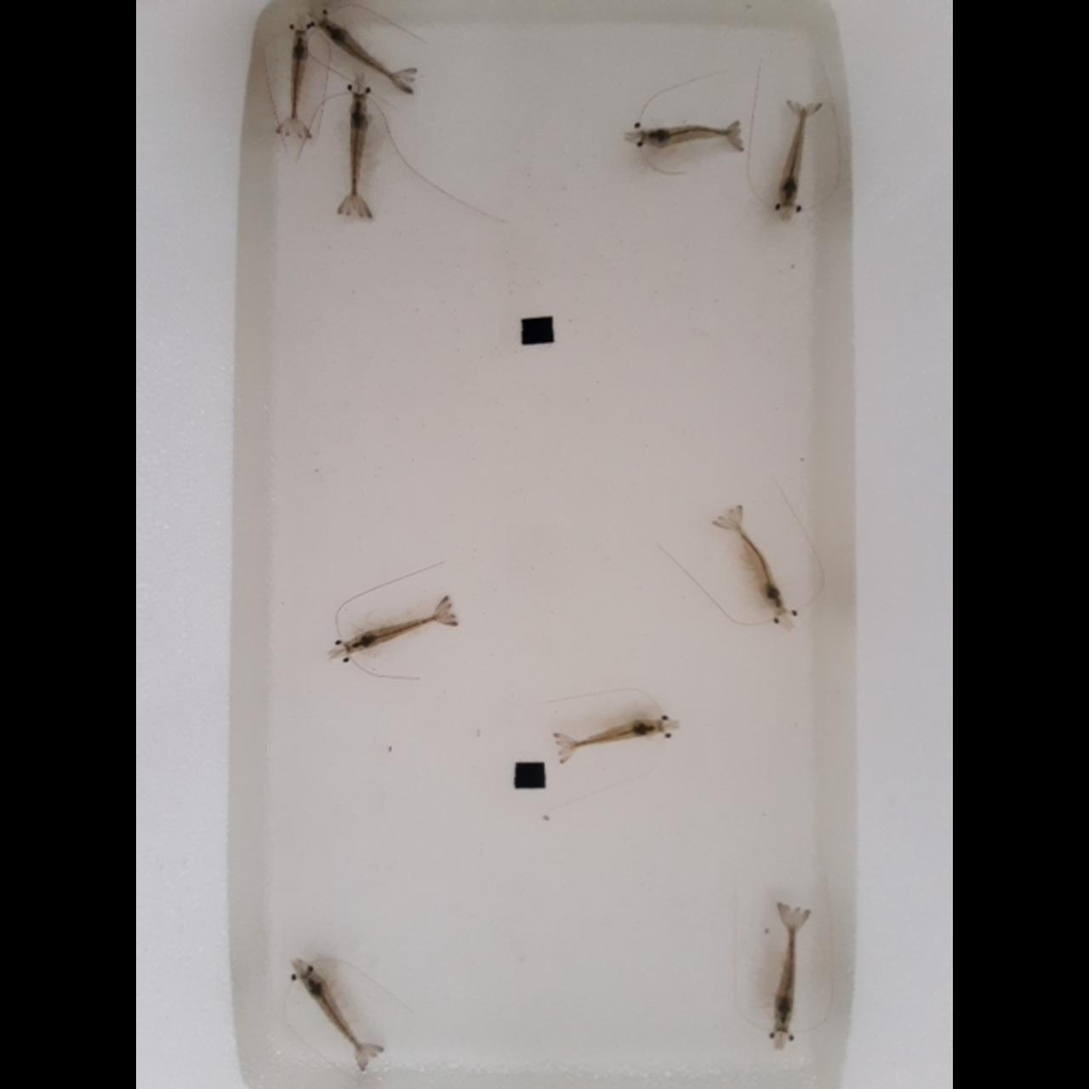box: (522, 318, 553, 345), (514, 762, 543, 788)
side_shrimp: (730, 519, 783, 611)
top_shrimp: (322, 22, 405, 87), (306, 975, 366, 1055), (351, 614, 441, 648), (779, 109, 805, 202), (567, 721, 659, 747), (776, 921, 795, 1026), (351, 97, 366, 204), (291, 32, 308, 126), (647, 128, 730, 143)
